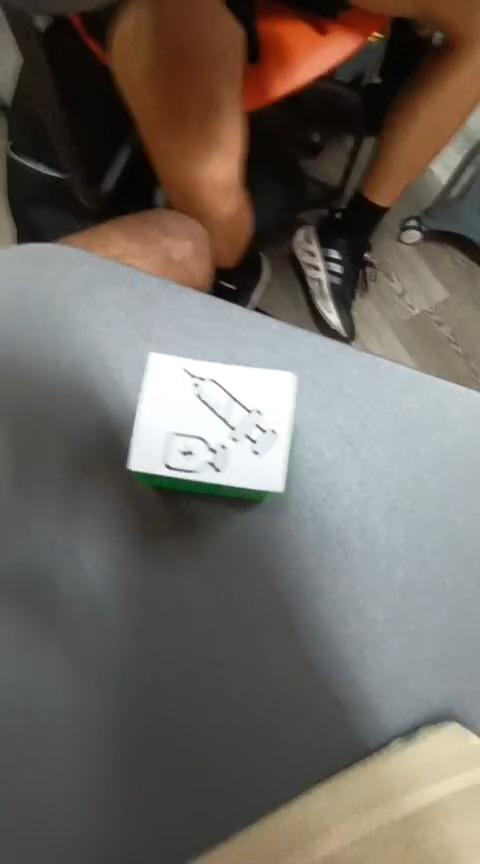antiseptic cream: (124, 350, 298, 501)
